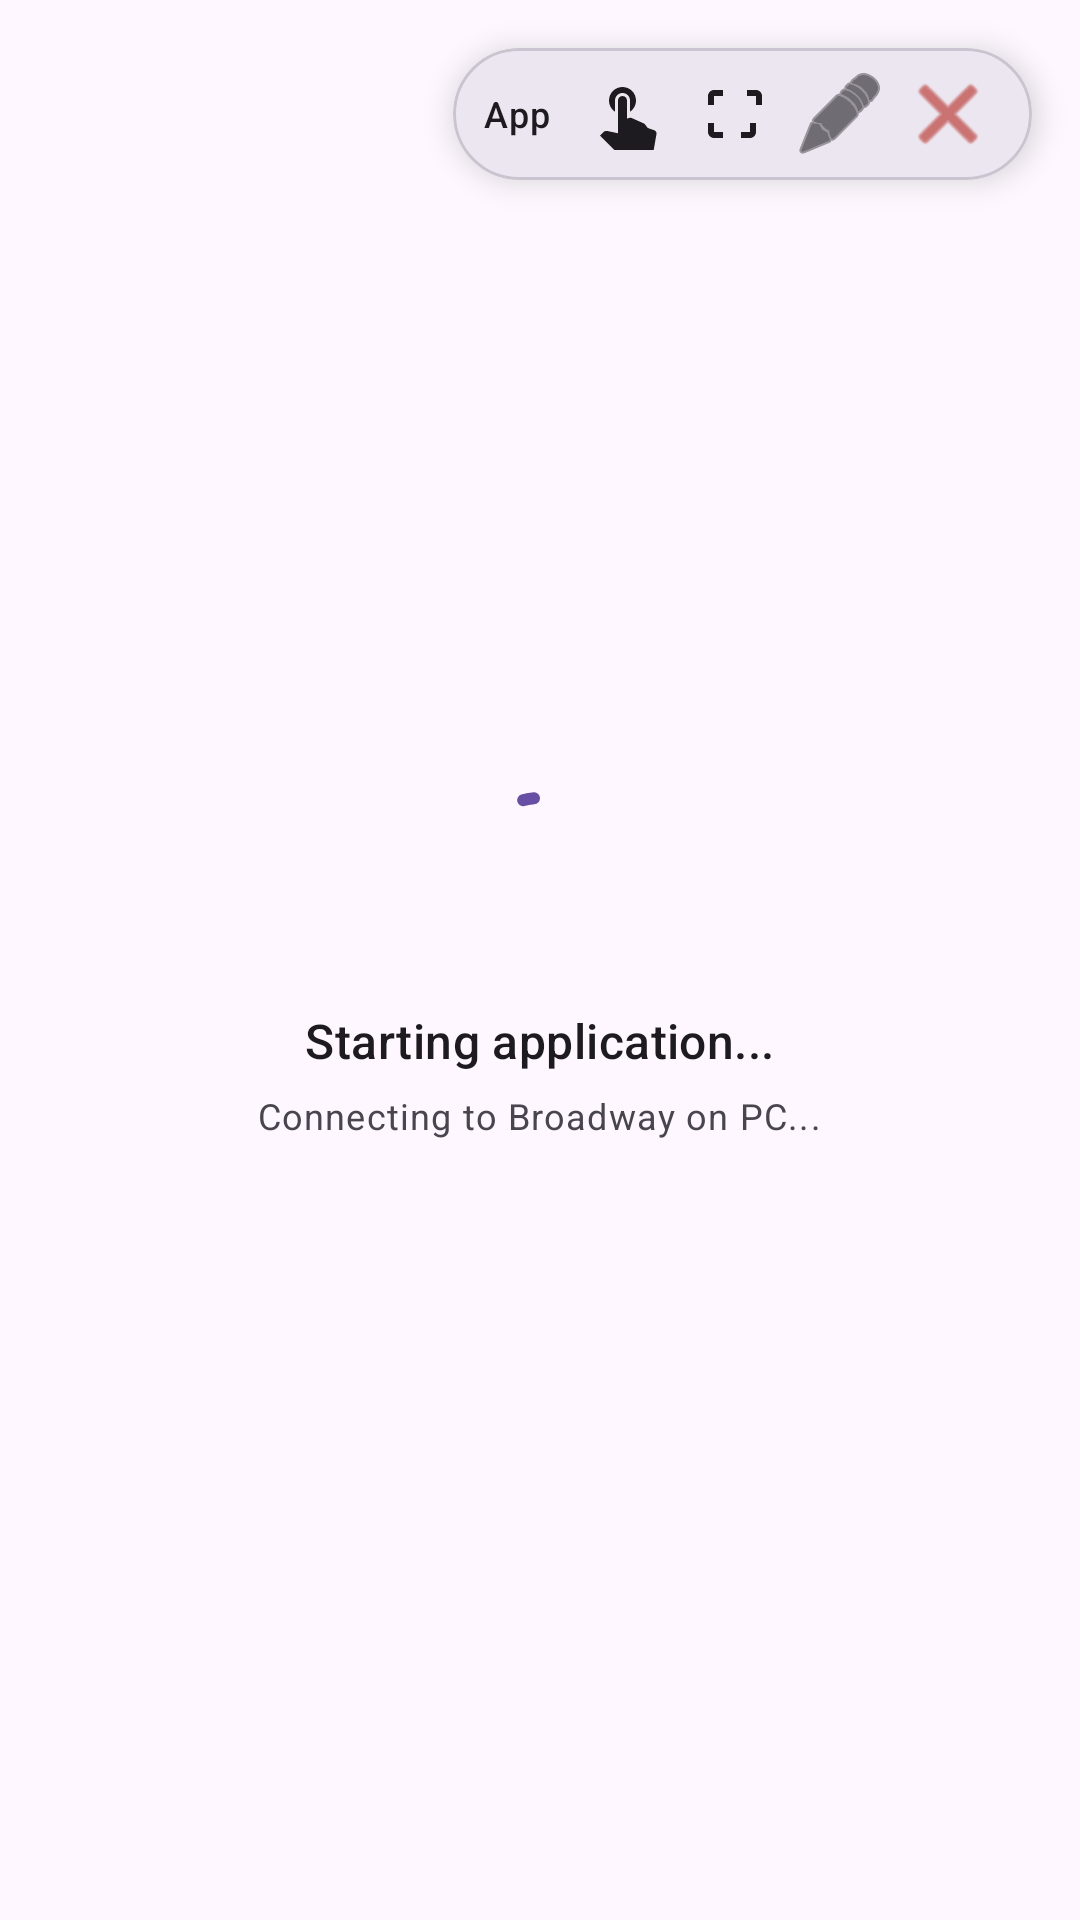

Where to tap for icons on this 1080px×1920px app screen, as [x,y]:
Close Application: [948,114]
Interaction Mode: [628,118]
Zoom: [735,114]
